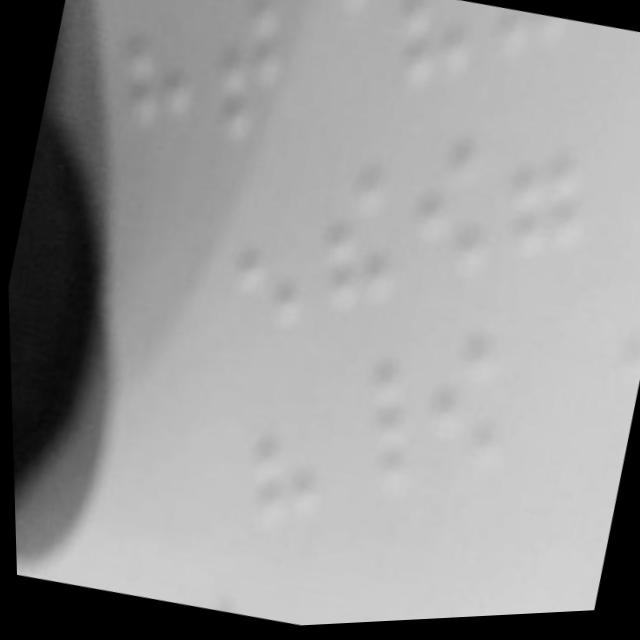braiile: (290, 136, 431, 333), (194, 153, 330, 344), (397, 323, 536, 499), (471, 101, 605, 276), (210, 365, 345, 535), (185, 0, 321, 161), (299, 347, 433, 510), (388, 118, 514, 286), (80, 0, 214, 146)
